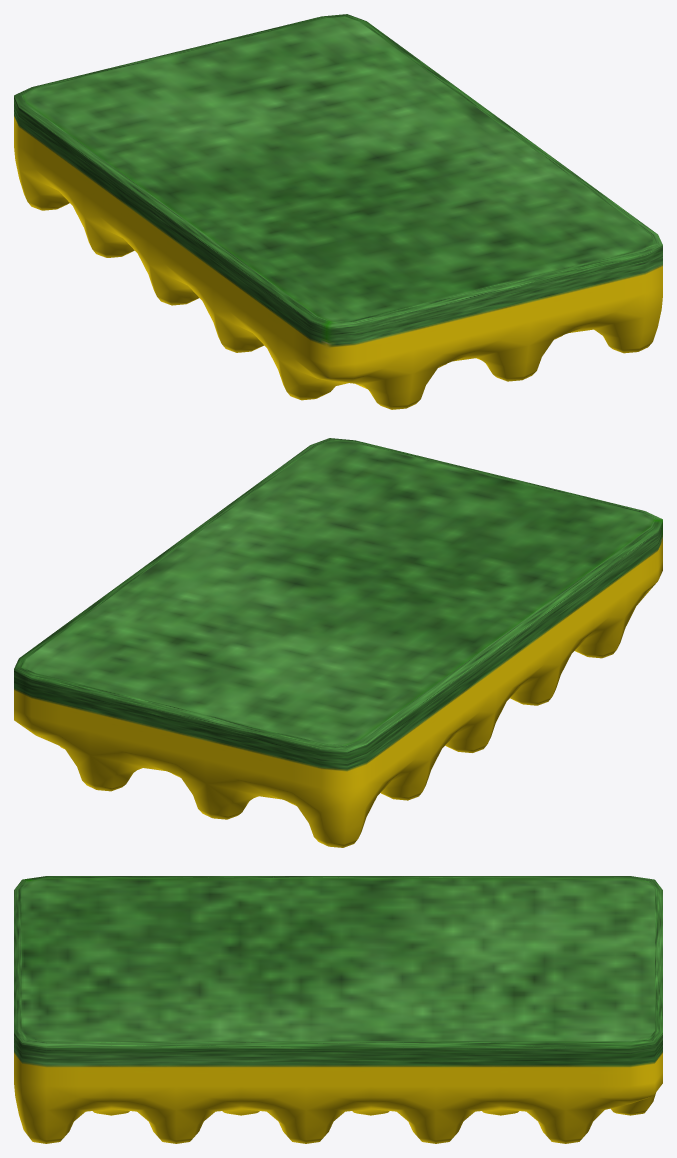
Rendered from suponnzi.fbx.
3 views of the same model, one above another, from view 1: azimuth 30°, elevation 25°; view 2: azimuth 150°, elevation 25°; view 3: azimuth 270°, elevation 25° (orthographic).
Parts seen in each view (by area): view 1: pCube1; view 2: pCube1; view 3: pCube1.
Part boxes in pixels (box(x1,y1,x2,y2)): pCube1: box(14, 14, 662, 409); pCube1: box(14, 438, 662, 847); pCube1: box(14, 876, 662, 1143).
Size of the model in its own units: 16.47 by 4.82 by 26.55.
Materials: 1 (1 with a texture image).
